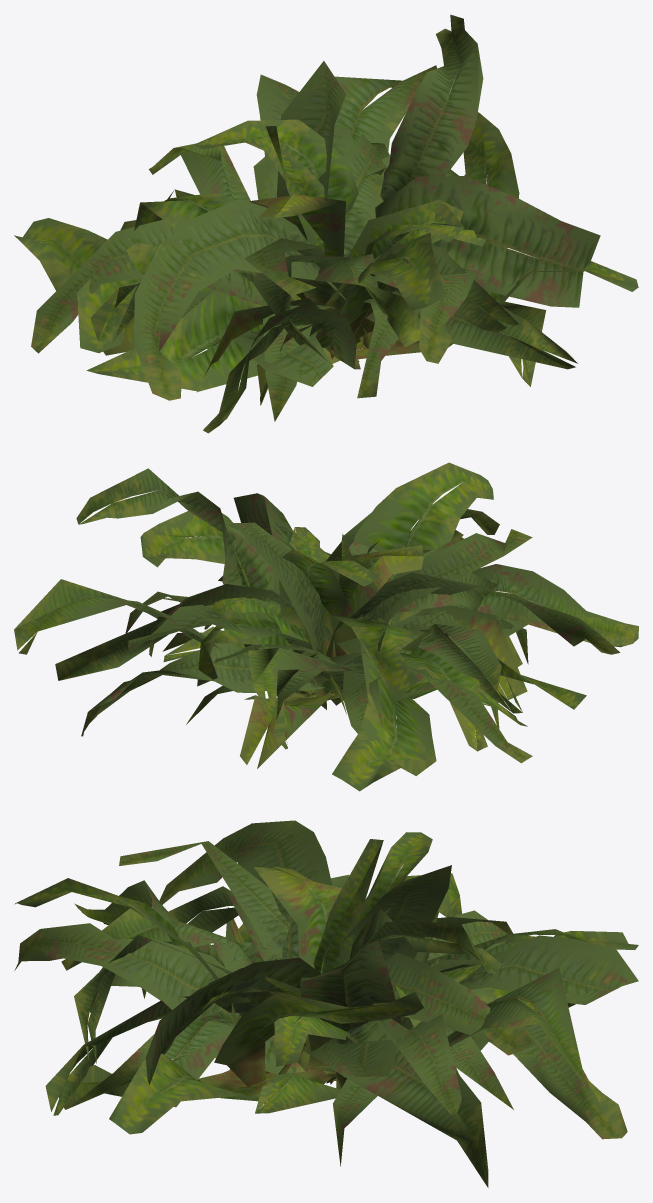
File: fern_02.glb
The picture shows the model from 3 angles, top to bottom: view 1: azimuth 30°, elevation 25°; view 2: azimuth 150°, elevation 25°; view 3: azimuth 270°, elevation 25°; orthographic projection. The views are drawn at different scales.
Visible parts, largest first — view 1: v0, v3, v2, v1; view 2: v3, v1, v2, v0; view 3: v0, v1, v3, v2.
Part boxes in pixels (<box>): v0: <box>77,14,600,363</box>; v3: <box>14,112,638,433</box>; v2: <box>86,126,546,405</box>; v1: <box>31,61,577,421</box>; v3: <box>140,462,638,791</box>; v1: <box>14,522,532,768</box>; v2: <box>55,528,586,751</box>; v0: <box>76,468,527,736</box>; v0: <box>14,832,638,1139</box>; v1: <box>45,865,607,1166</box>; v3: <box>14,820,638,1134</box>; v2: <box>59,839,590,1187</box>.
Size of the model in its own units: 1 by 0.4675 by 1.
Materials: 1 (1 with a texture image).
